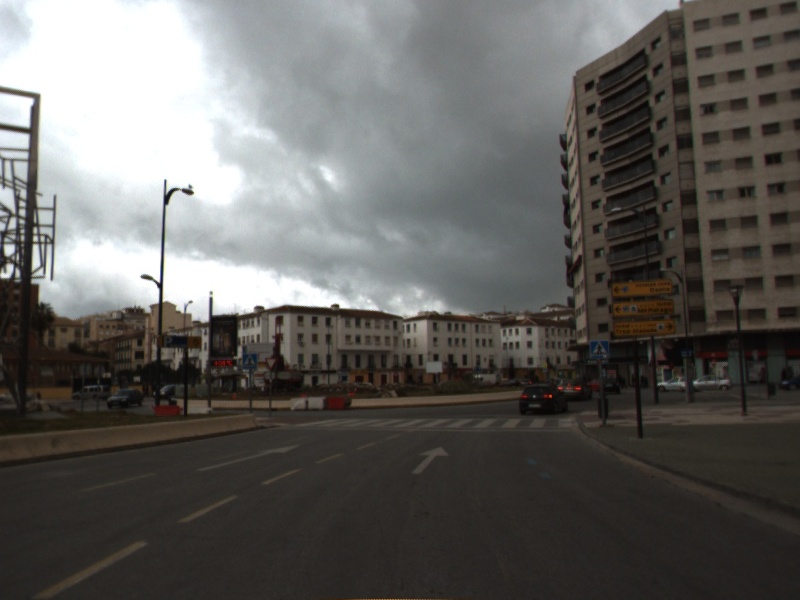STRAIGHT: (193, 442, 303, 474), (407, 444, 452, 477)
